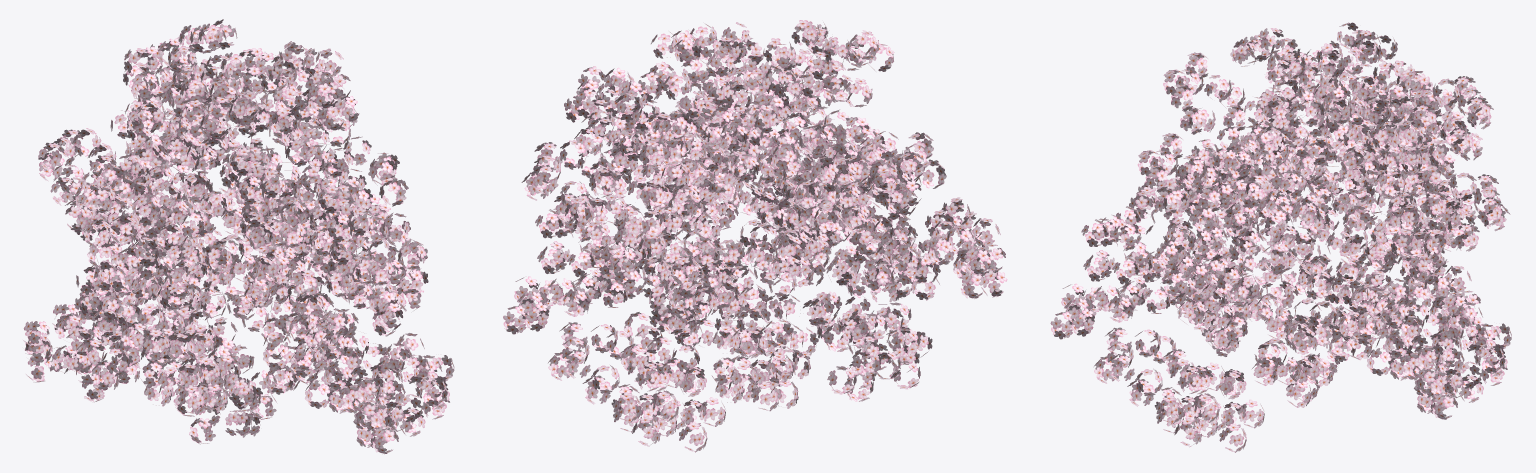
The model's file is tree_flowers.obj.
3 views of the same model, side by side, from view 1: azimuth 30°, elevation 25°; view 2: azimuth 150°, elevation 25°; view 3: azimuth 270°, elevation 25° (orthographic). The views are drawn at different scales.
Size of the model in its own units: 24.64 by 23.16 by 26.24.
Materials: 1 (1 with a texture image).
